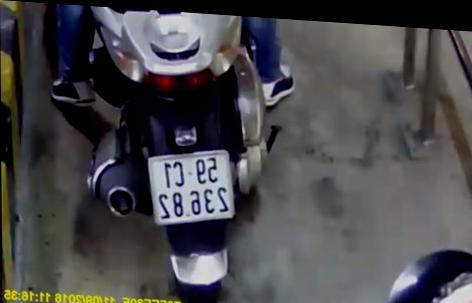License_Plate: (140, 138, 245, 238)
